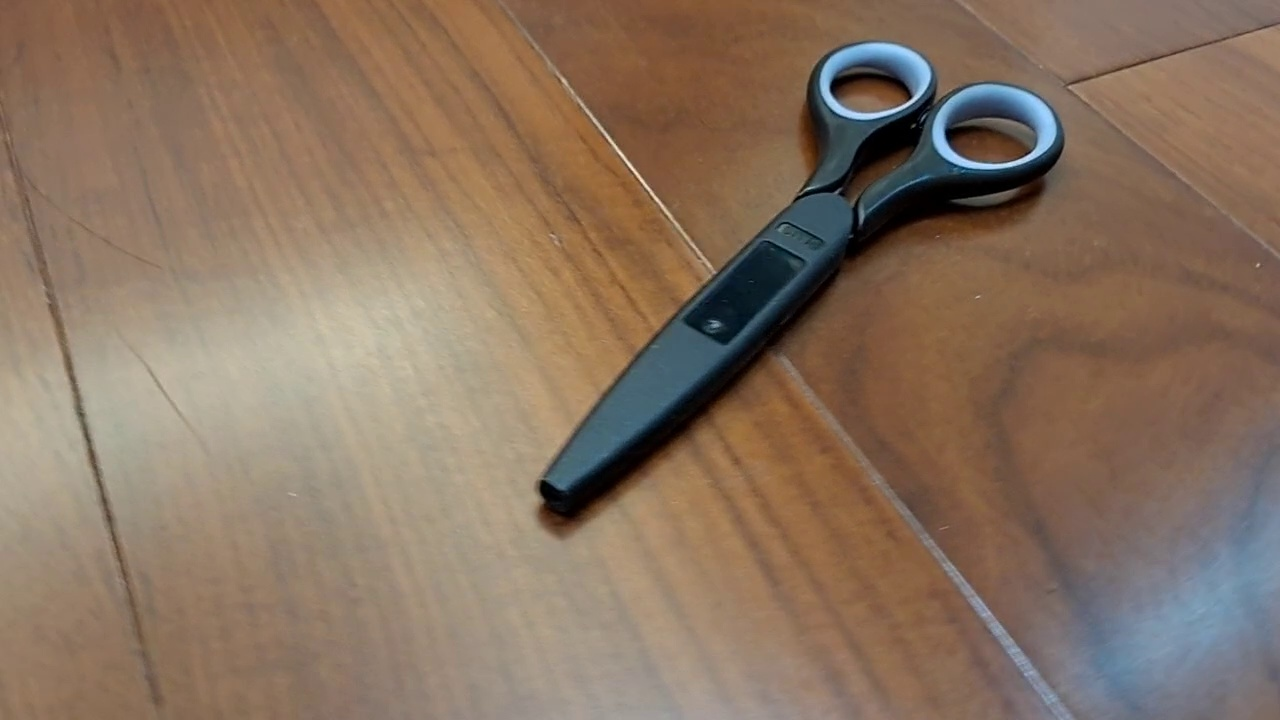scissors: (532, 38, 1066, 518)
